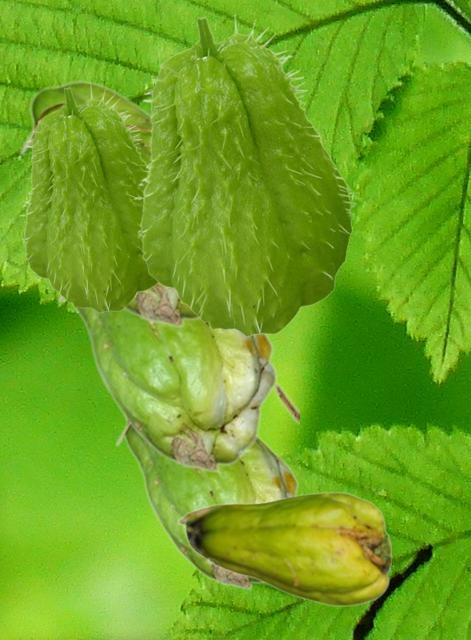sayote: (133, 12, 358, 336), (18, 80, 199, 327), (56, 293, 298, 472), (19, 84, 157, 312), (114, 421, 300, 589), (176, 491, 390, 606)
